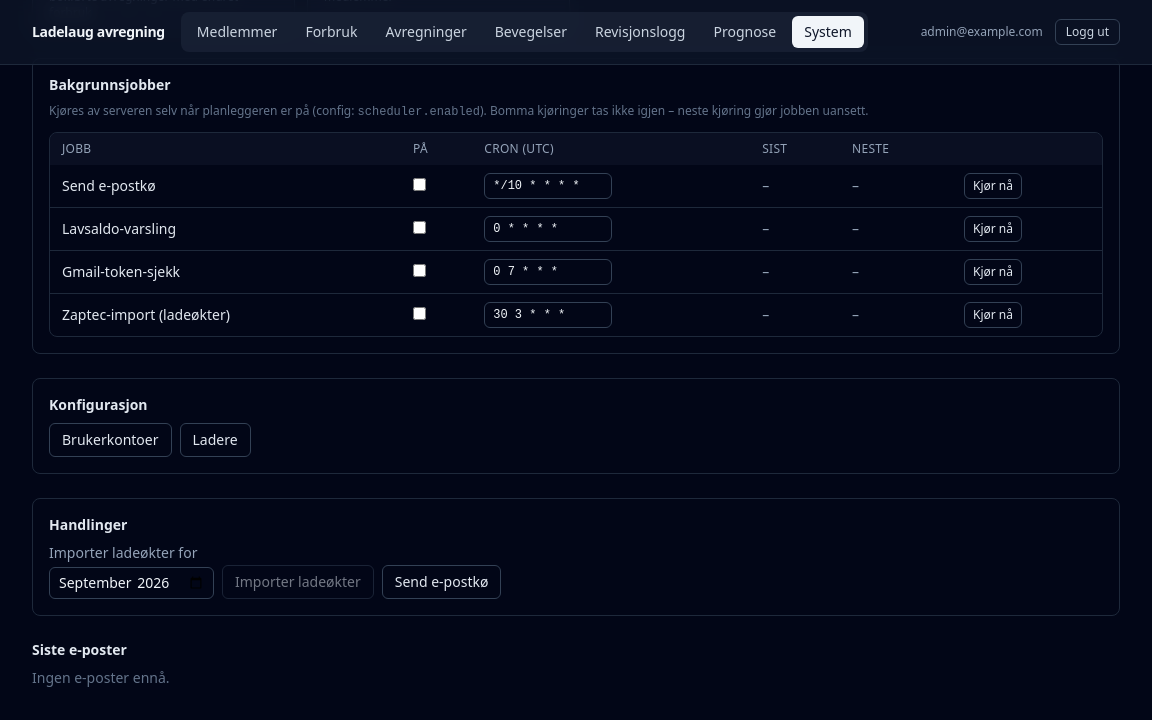
Test: SystemHealth (admin) › shows health tiles and can drain the email queue
This screenshot has width=1152, height=720.
(page scrolled)
Step 1. Click the button "Send e-postkø" → click(442, 582), box 382,565 -> 501,599
(page scrolled)
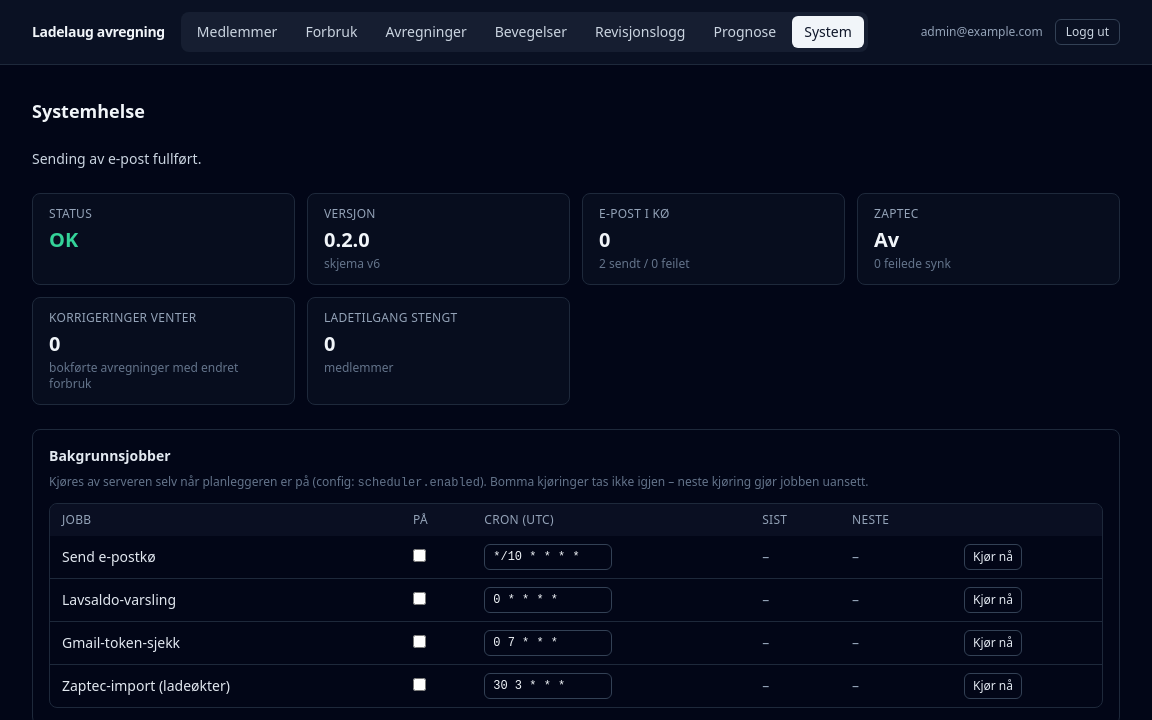
Check: the text "Sending av e-post fullført." is shown, box 32,149 -> 201,168
